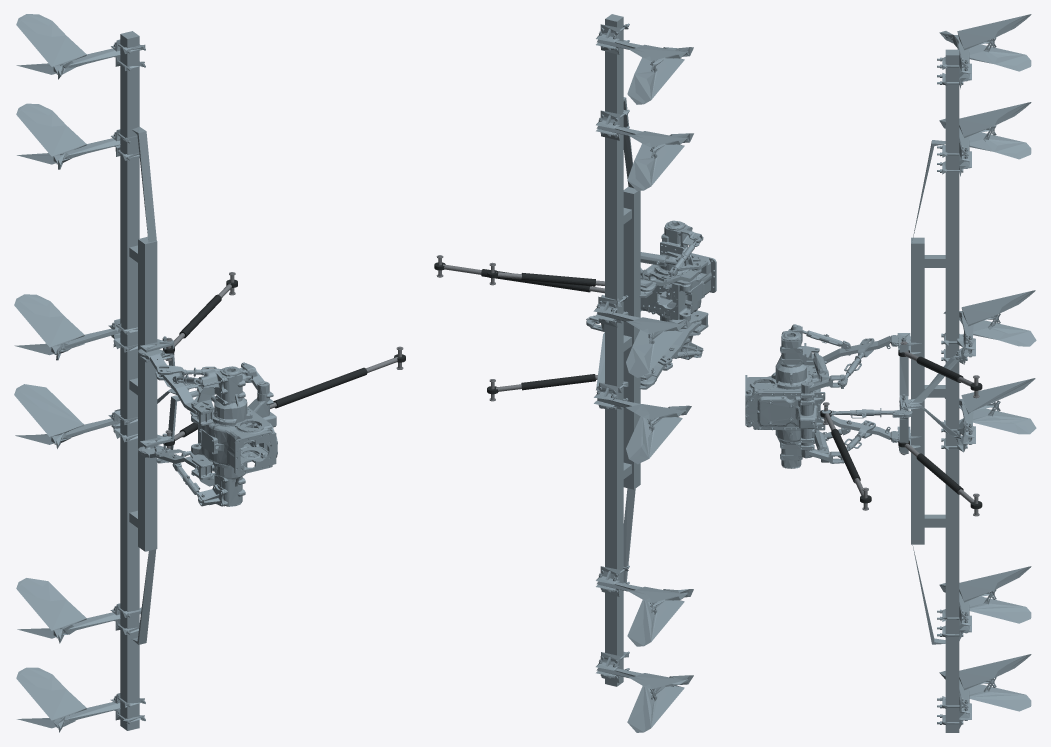
Rendered from implement_groove_maker_visual.obj.
3 renders of one model, left to right at view 1: azimuth 30°, elevation 25°; view 2: azimuth 150°, elevation 25°; view 3: azimuth 270°, elevation 25°, orthographic. The views are drawn at different scales.
Visible parts, largest first — view 1: solid_0, solid_4, solid_335, solid_358, solid_98, solid_297, solid_144, solid_190, solid_247, solid_52, solid_6, solid_5 (+3 smaller); view 2: solid_0, solid_4, solid_335, solid_189, solid_143, solid_296, solid_246, solid_97, solid_51, solid_358, solid_5, solid_342 (+10 smaller); view 3: solid_0, solid_4, solid_327, solid_358, solid_246, solid_97, solid_51, solid_190, solid_296, solid_143, solid_189, solid_297 (+11 smaller).
Boxes of the visible parts, <box> form: solid_0: <box>120,31,139,730</box>; solid_4: <box>138,236,157,551</box>; solid_335: <box>191,411,276,475</box>; solid_358: <box>212,369,252,506</box>; solid_98: <box>16,667,86,720</box>; solid_297: <box>14,294,84,347</box>; solid_144: <box>16,103,86,156</box>; solid_190: <box>16,14,86,66</box>; solid_247: <box>14,384,84,436</box>; solid_52: <box>16,578,86,630</box>; solid_6: <box>132,126,156,242</box>; solid_5: <box>132,549,156,644</box>; solid_0: <box>605,14,623,686</box>; solid_4: <box>623,186,640,489</box>; solid_335: <box>640,253,716,321</box>; solid_189: <box>627,57,684,104</box>; solid_143: <box>627,143,684,190</box>; solid_296: <box>626,330,682,377</box>; solid_246: <box>626,416,682,464</box>; solid_97: <box>627,685,684,732</box>; solid_51: <box>627,600,684,646</box>; solid_358: <box>654,223,691,351</box>; solid_5: <box>623,488,635,582</box>; solid_342: <box>640,321,701,386</box>; solid_0: <box>945,49,959,732</box>; solid_4: <box>911,237,924,544</box>; solid_327: <box>745,391,825,450</box>; solid_358: <box>771,332,812,467</box>; solid_246: <box>973,400,1036,434</box>; solid_97: <box>969,677,1031,711</box>; solid_51: <box>969,589,1031,623</box>; solid_190: <box>957,14,1031,50</box>; solid_296: <box>973,313,1036,346</box>; solid_143: <box>969,125,1031,159</box>; solid_189: <box>969,37,1031,71</box>; solid_297: <box>961,290,1035,326</box>.
Size of the model in its own units: 2.51 by 5.51 by 2.1.
